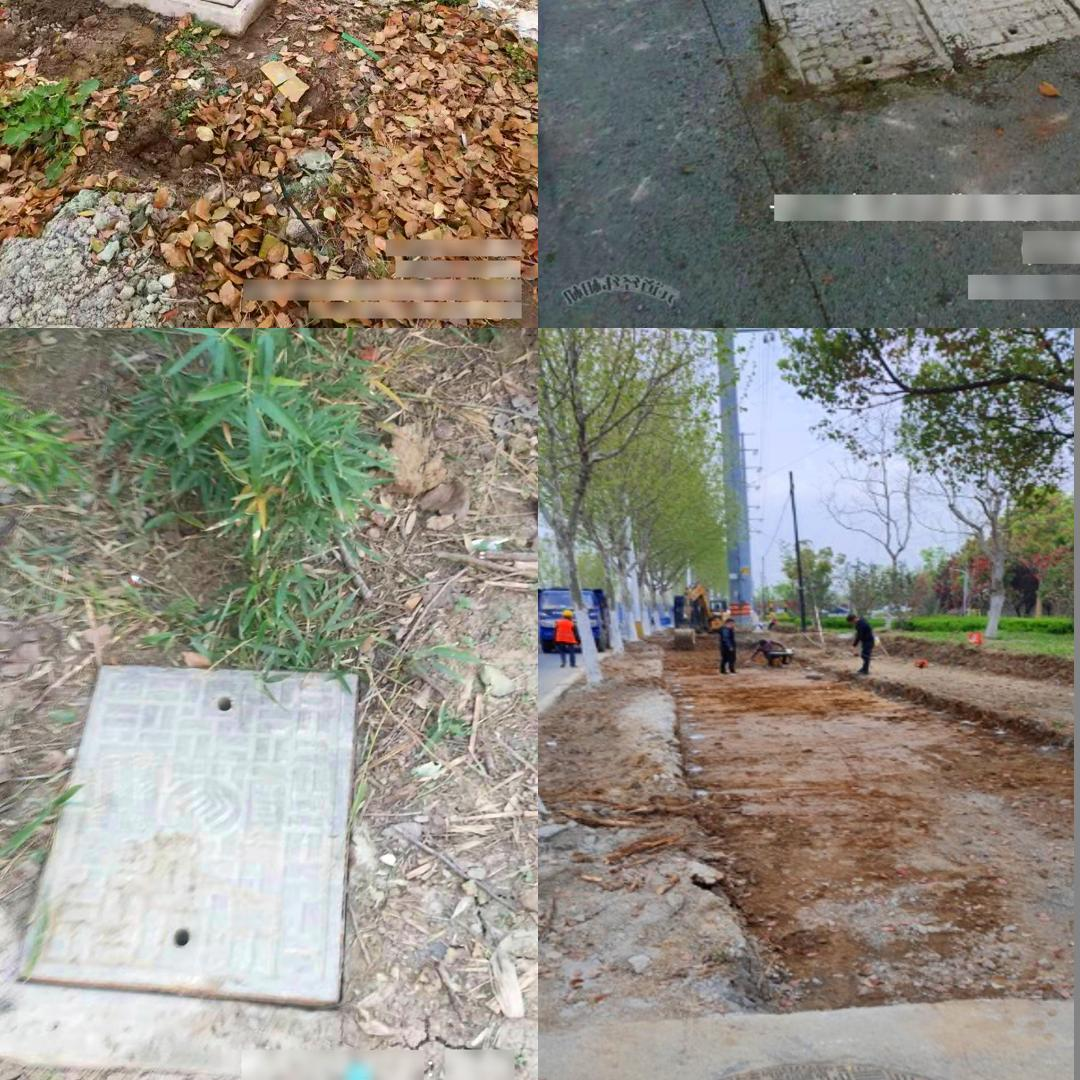good: (13, 662, 360, 1012), (735, 0, 1080, 99), (584, 1048, 1059, 1080), (5, 0, 333, 15)
